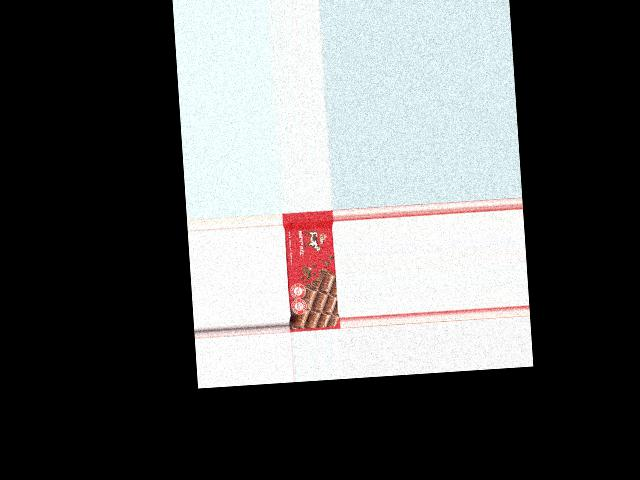chocolate: (281, 211, 339, 332)
